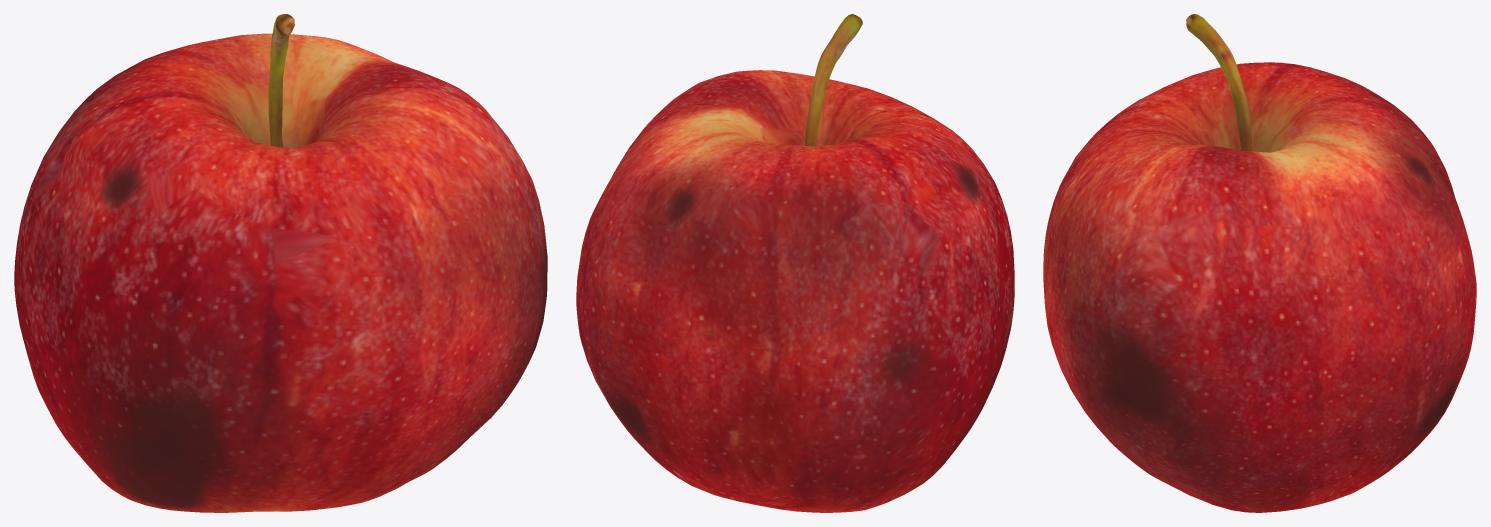
File: apple-bad.gltf
3 views of the same model, side by side, from view 1: azimuth 30°, elevation 25°; view 2: azimuth 150°, elevation 25°; view 3: azimuth 270°, elevation 25° (orthographic). The views are drawn at different scales.
Parts seen in each view (by area): view 1: mk_apple_bad; view 2: mk_apple_bad; view 3: mk_apple_bad.
Boxes of the visible parts, x1=… form: mk_apple_bad: x1=14, y1=14, x2=547, y2=512; mk_apple_bad: x1=576, y1=14, x2=1014, y2=512; mk_apple_bad: x1=1043, y1=14, x2=1476, y2=512.
Size of the model in its own units: 0.0558 by 0.0612 by 0.0534.
Materials: 1 (1 with a texture image).
